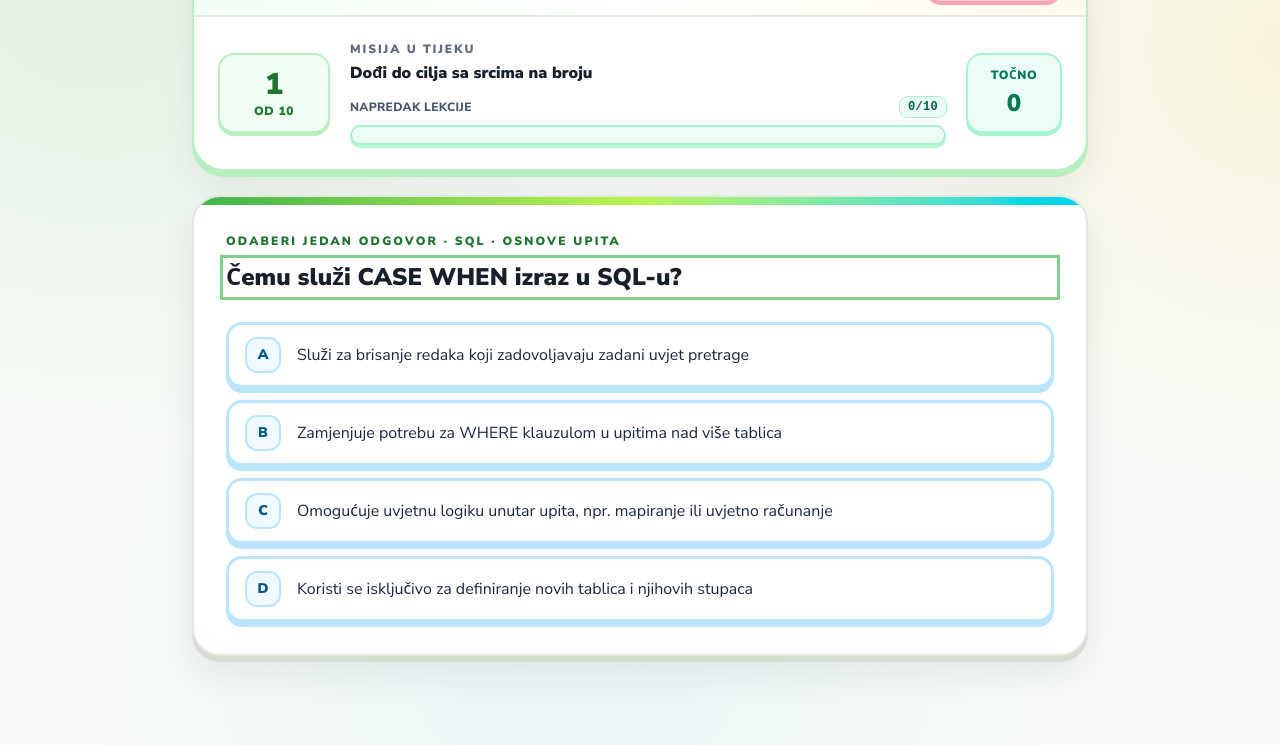
Test case: LessonPage › točan odgovor ne dira trajnu zalihu srca
Expected: the heading "Čemu služi CASE WHEN izraz u SQL-u?" is shown, [226,261,682,293]
What coordinates should you click on to do the following:
click the button "Omogućuje uvjetnu logiku unutar upita, npr. mapiranje ili uvjetno računanje"
I would click on:
 (640, 511)
Its box is [226,478,1054,544].
(page scrolled)
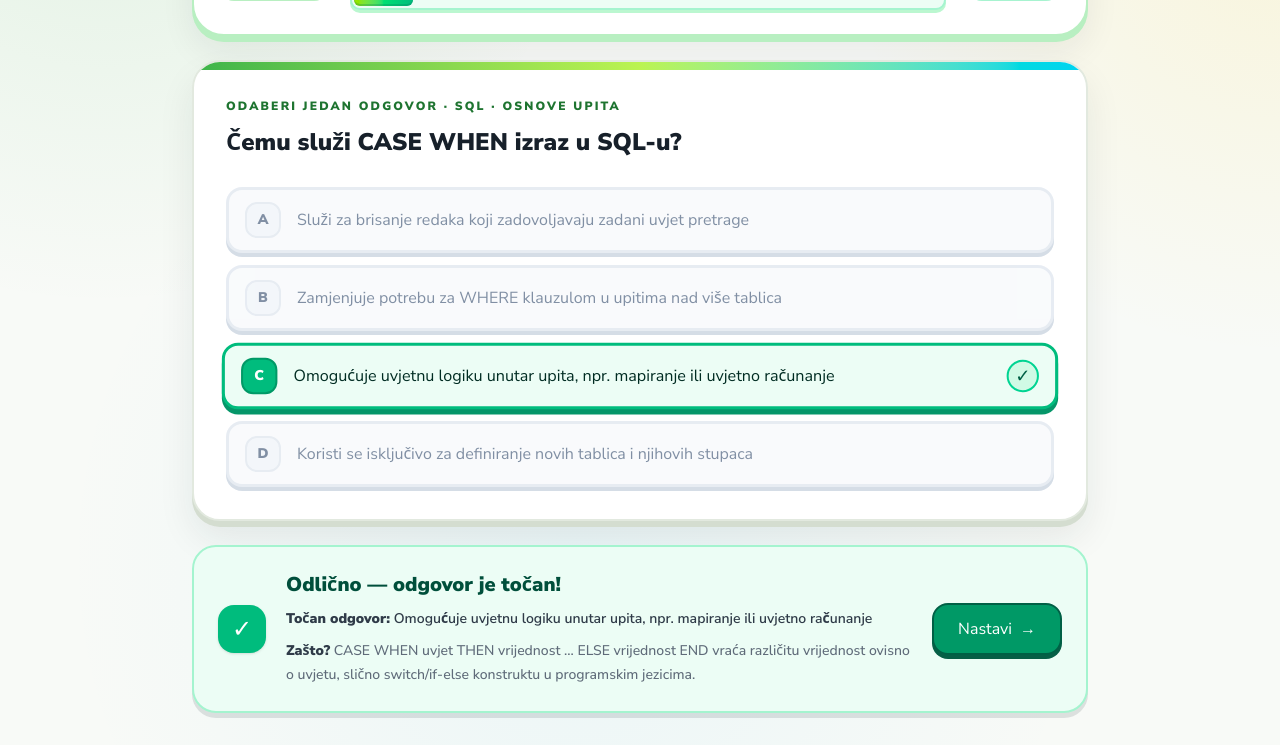
Now the button "Nastavi→" is shown, box [932,603,1062,655]
